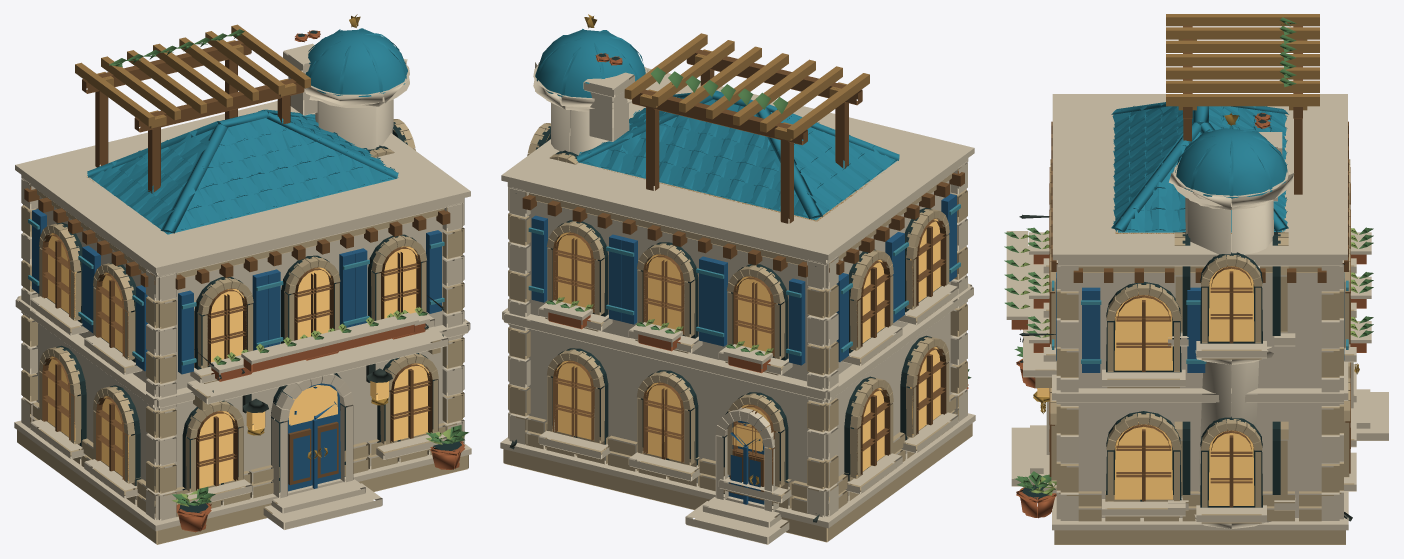
The picture shows the model from 3 angles, left to right: view 1: azimuth 30°, elevation 25°; view 2: azimuth 150°, elevation 25°; view 3: azimuth 270°, elevation 25°; orthographic projection. The views are drawn at different scales.
Visible parts, largest first — view 1: harbor_tower_2_geometry, harbor_tower_2_geometry ceramic; view 2: harbor_tower_2_geometry, harbor_tower_2_geometry ceramic; view 3: harbor_tower_2_geometry, harbor_tower_2_geometry ceramic.
Boxes of the visible parts, x1=… form: harbor_tower_2_geometry: x1=14, y1=14, x2=471, y2=544; harbor_tower_2_geometry ceramic: x1=28, y1=28, x2=444, y2=365; harbor_tower_2_geometry: x1=500, y1=14, x2=975, y2=544; harbor_tower_2_geometry ceramic: x1=528, y1=29, x2=960, y2=356; harbor_tower_2_geometry: x1=1004, y1=14, x2=1388, y2=544; harbor_tower_2_geometry ceramic: x1=1052, y1=102, x2=1348, y2=363.
Size of the model in its own units: 0.99 by 1.09 by 0.913.
